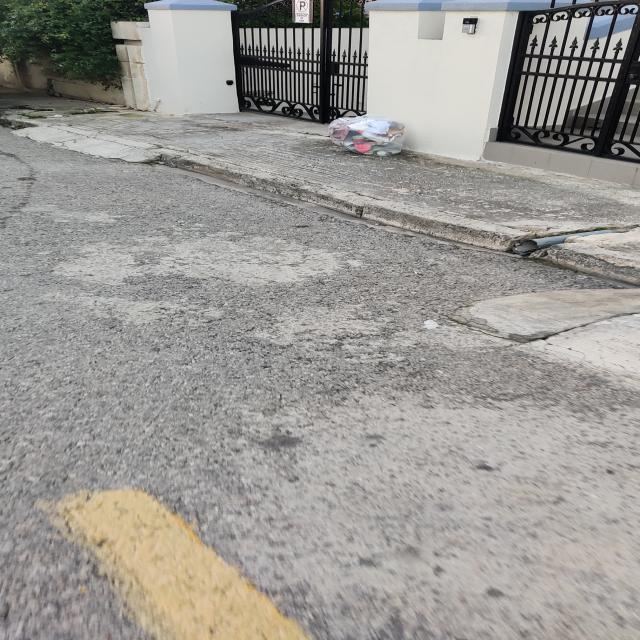Recyclable Material -Grey Bags-: (326, 115, 408, 156)
